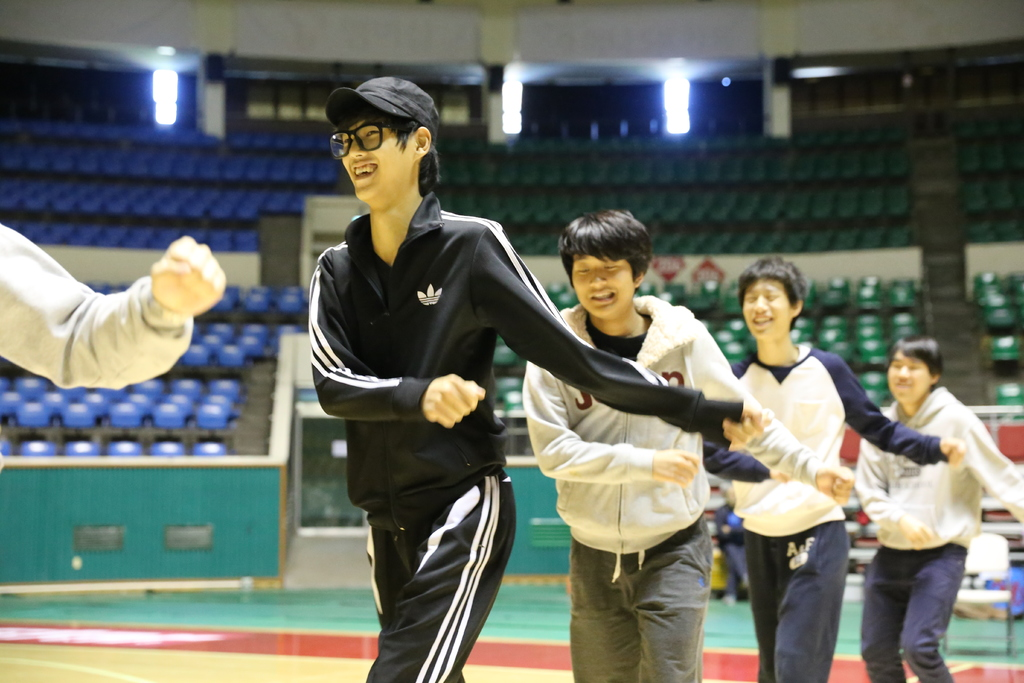Person: (0, 75, 1024, 683)
